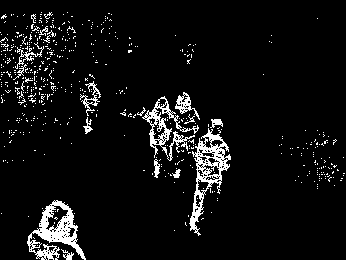person: (190, 117, 232, 236), (172, 89, 200, 183), (149, 96, 176, 179), (78, 73, 101, 134)
